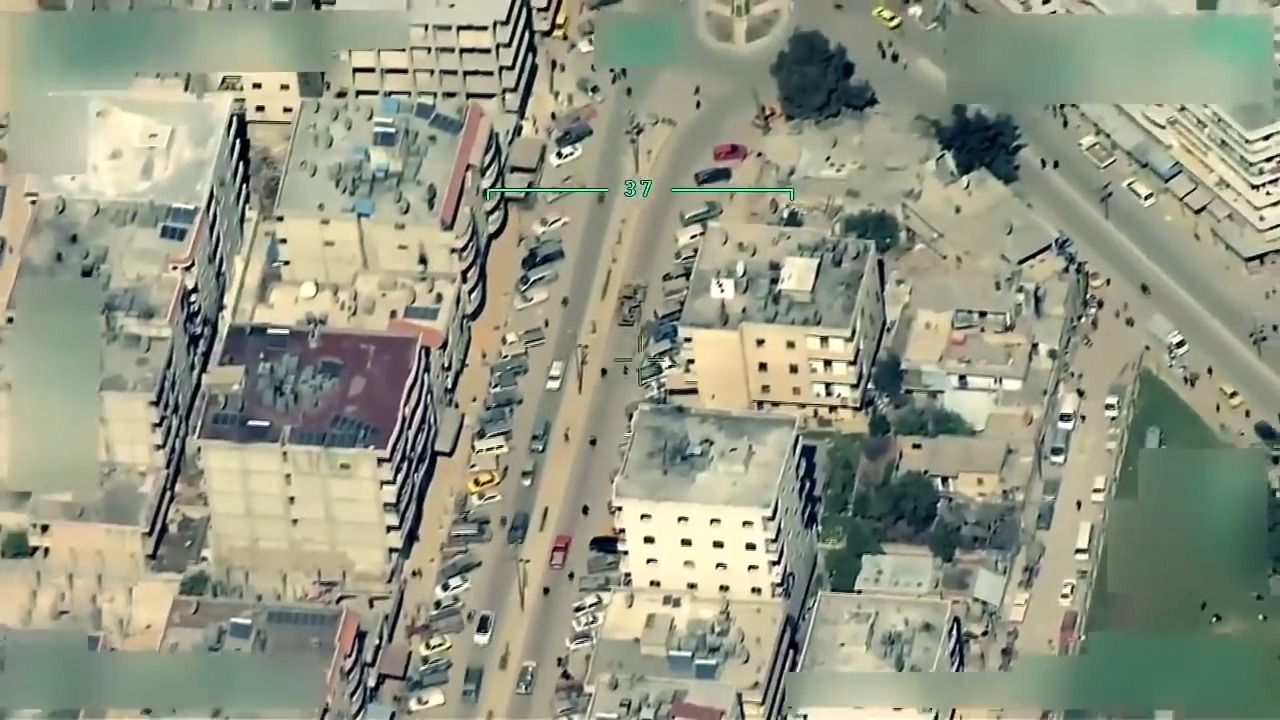arac: (1071, 126, 1129, 177), (1143, 310, 1197, 354), (523, 232, 578, 272), (449, 668, 497, 708), (682, 156, 739, 188), (1051, 379, 1090, 425), (430, 566, 485, 598), (589, 526, 641, 559), (1121, 166, 1160, 210), (1039, 428, 1083, 467), (545, 530, 580, 578), (501, 320, 550, 354), (548, 114, 594, 150), (521, 416, 567, 451), (529, 201, 579, 233), (1091, 380, 1137, 414), (544, 136, 589, 169), (471, 604, 500, 655), (444, 519, 495, 547), (469, 428, 514, 459), (543, 353, 576, 395), (706, 135, 757, 162), (1069, 519, 1101, 559), (1056, 566, 1088, 606), (678, 188, 719, 219), (637, 336, 686, 361), (577, 68, 607, 107), (674, 218, 714, 247), (467, 480, 502, 512), (460, 466, 510, 488), (1083, 468, 1115, 502), (566, 607, 602, 635), (1214, 380, 1251, 407), (510, 279, 543, 308)
bina: (189, 308, 435, 596), (269, 65, 503, 304), (1, 68, 288, 237), (663, 221, 896, 416), (609, 392, 827, 596), (326, 1, 532, 95)
